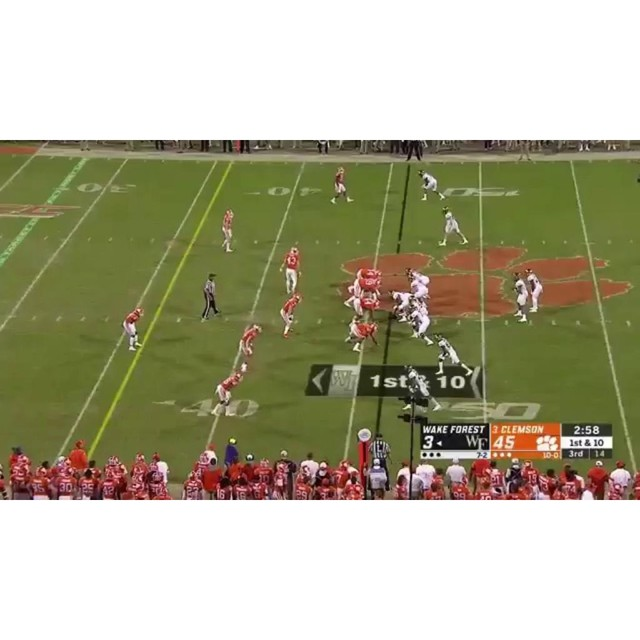american-football-player: (401, 365, 442, 414), (210, 367, 247, 416), (435, 335, 472, 377), (439, 206, 469, 246), (408, 304, 435, 348), (344, 277, 383, 307), (346, 320, 381, 352), (280, 292, 302, 339), (281, 245, 301, 295), (238, 323, 262, 364), (511, 273, 530, 324), (122, 308, 144, 350), (330, 166, 354, 204), (524, 268, 544, 313), (348, 297, 381, 324), (418, 170, 445, 201), (389, 290, 415, 322), (221, 207, 236, 253), (405, 266, 431, 287)
referee: (201, 272, 220, 321)
